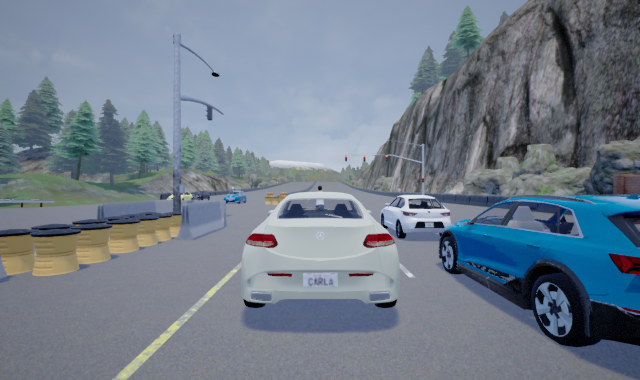bike: (315, 185, 327, 229)
vehicle: (437, 195, 639, 347), (240, 190, 416, 339), (379, 193, 451, 238), (167, 191, 192, 203), (224, 192, 247, 204), (191, 191, 211, 201)
